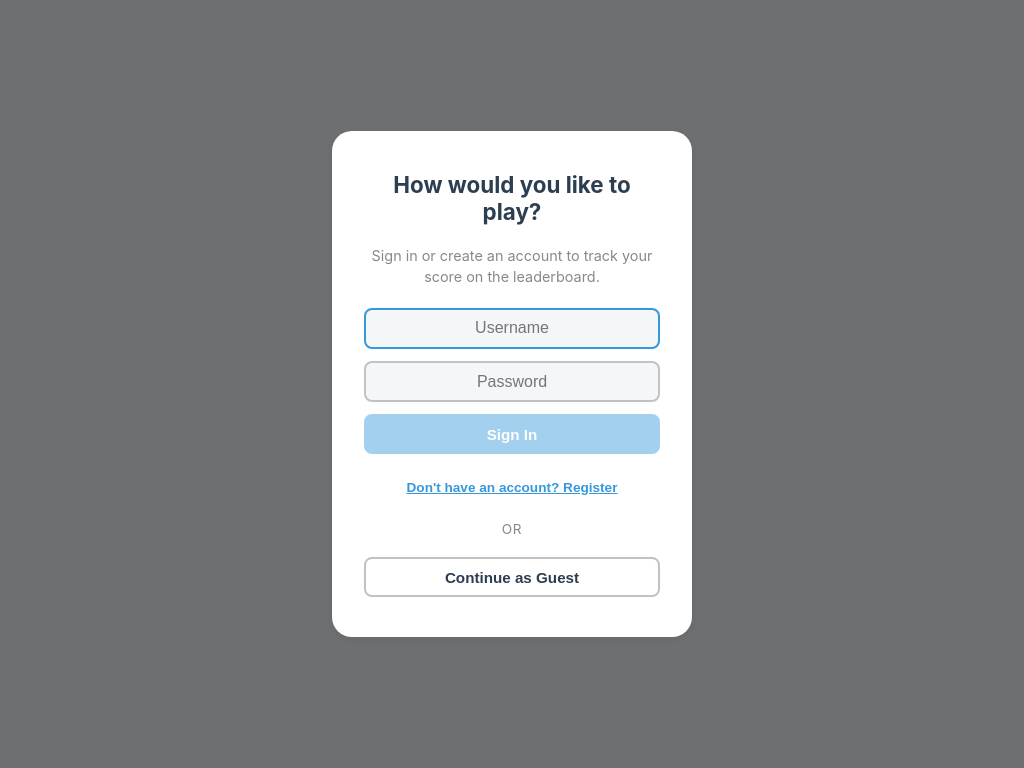
Test: AuthModal — register mode › shows register submit button after switching mode
Click the button "Don't have an account? Register": (512, 488) 400,474 -> 624,501
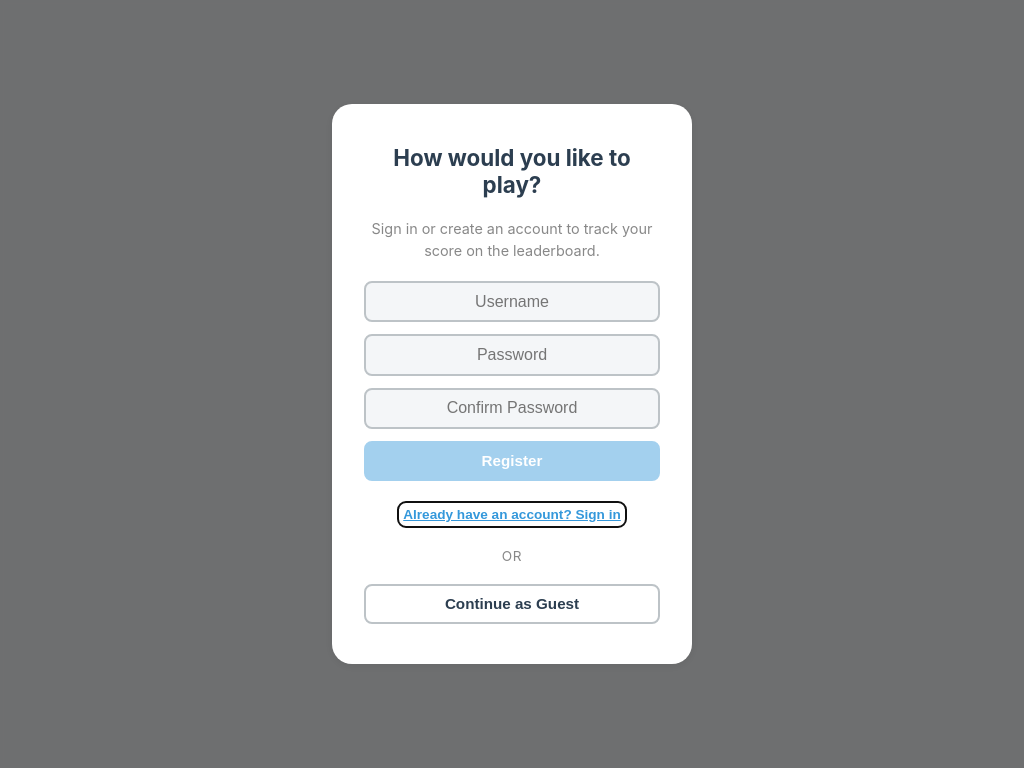
expect the button "Register" is shown: met, box 364,441 -> 660,481
